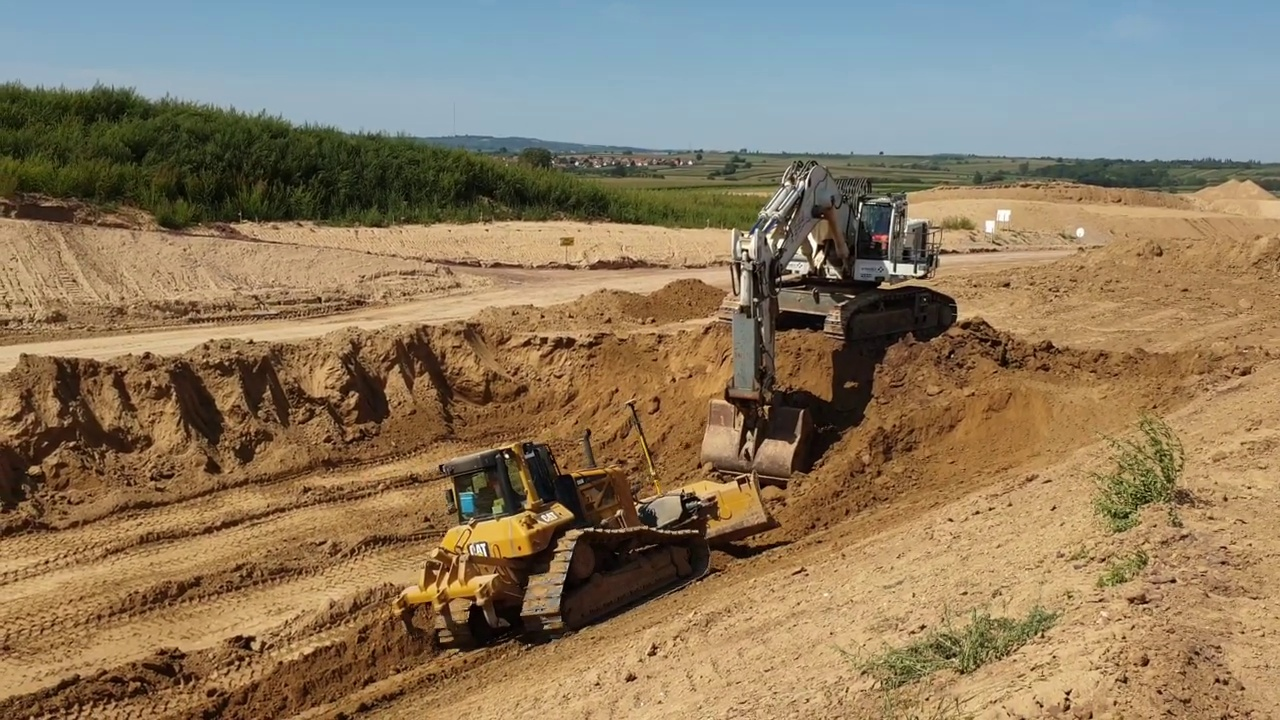bulldozer: (390, 400, 787, 655)
excavator: (698, 157, 956, 483)
